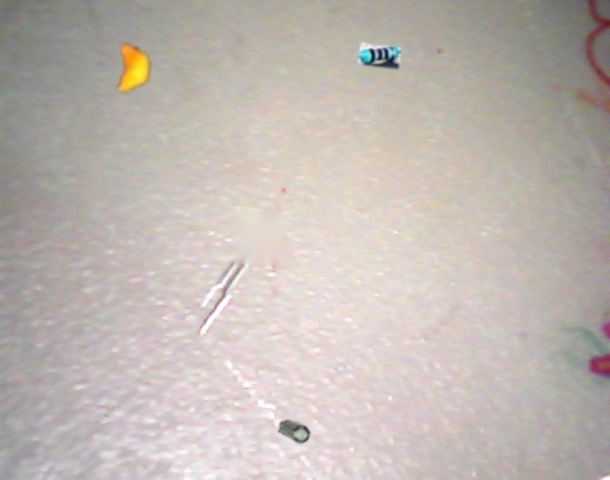capacitor: (117, 43, 151, 93), (278, 420, 311, 444)
resistor: (358, 43, 401, 69)
